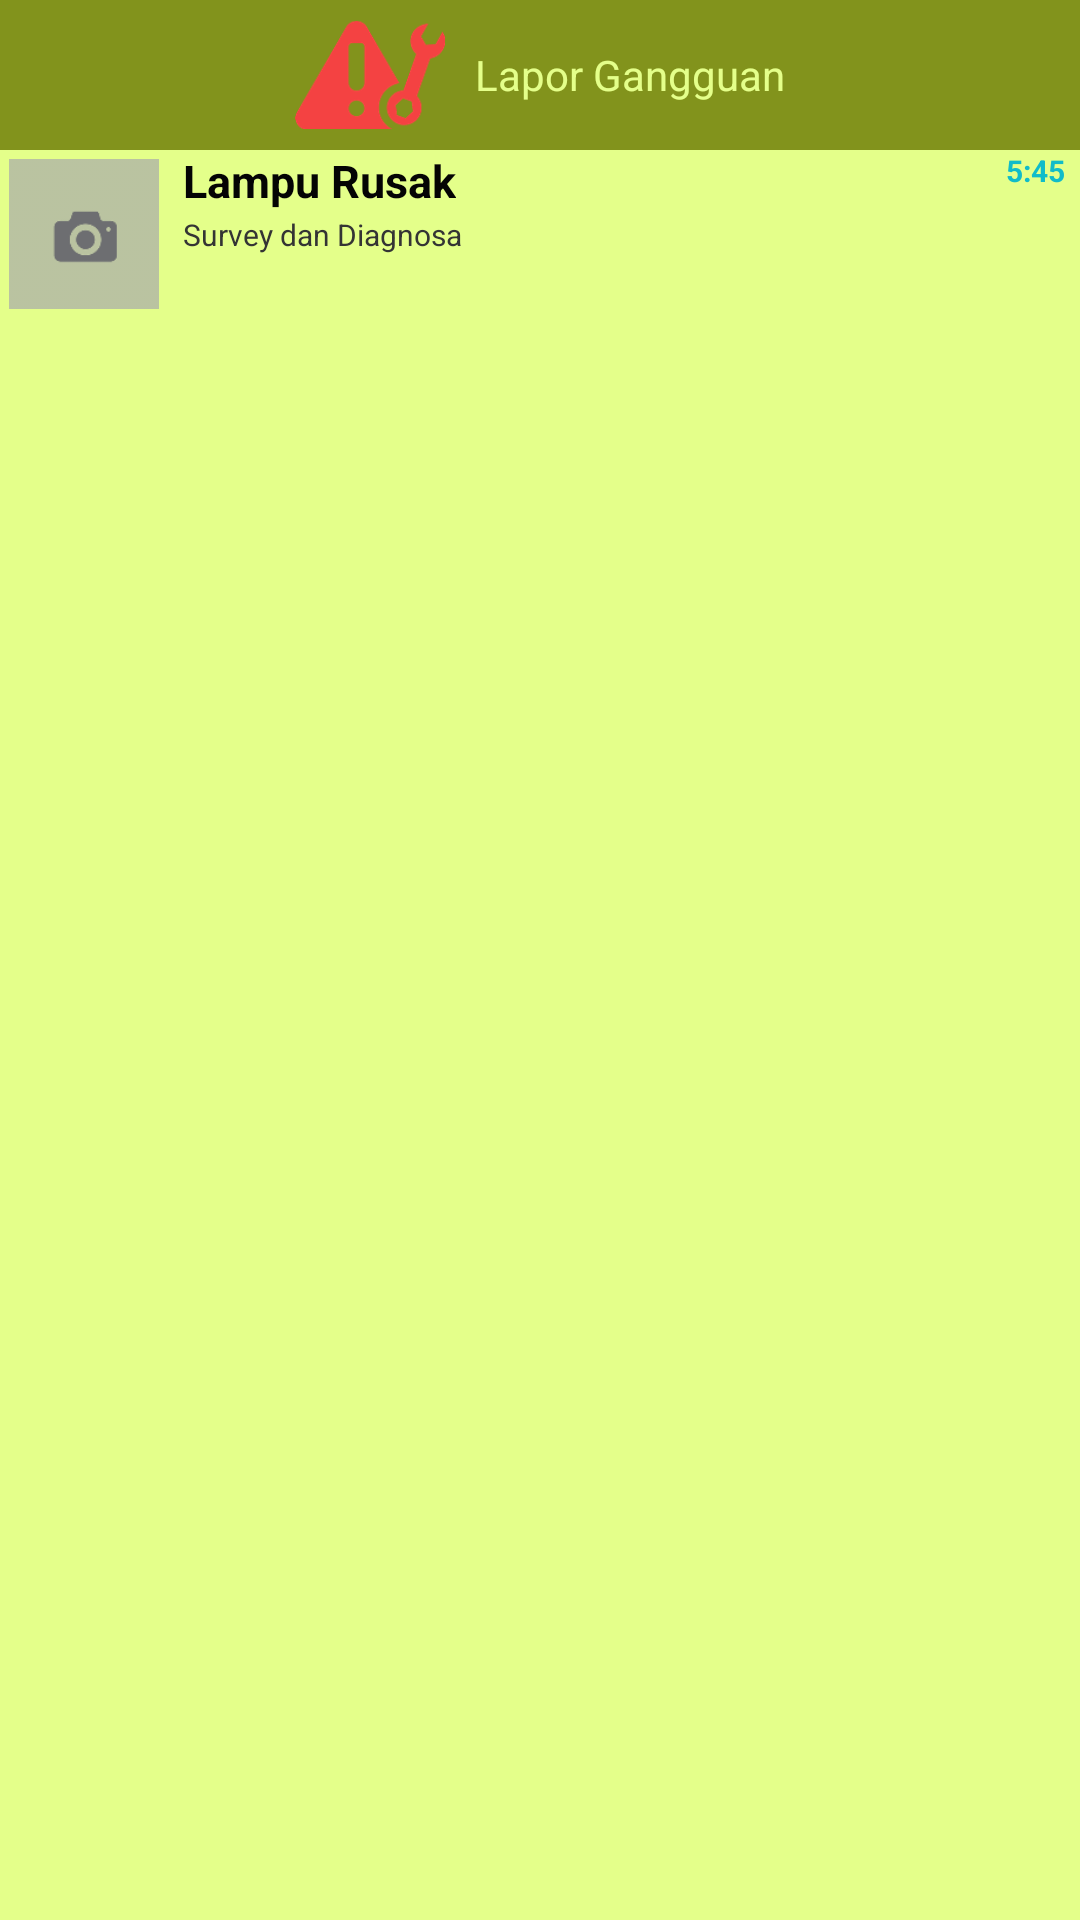

Where to tap for icons on this 1080 x 1920 app screen, as (x,y):
kameraabu: (84,234)
